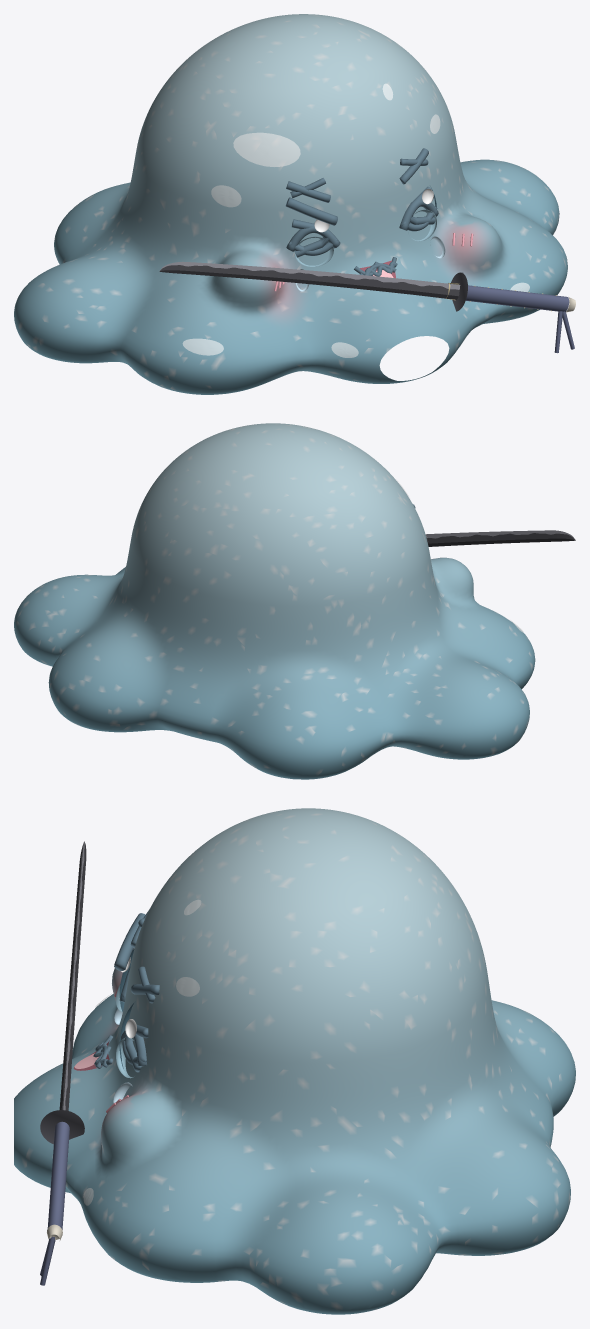
File: w_katana_black_slime.glb
3 renders of one model, top to bottom at view 1: azimuth 30°, elevation 25°; view 2: azimuth 150°, elevation 25°; view 3: azimuth 270°, elevation 25°, orthographic. The views are drawn at different scales.
Parts seen in each view (by area): view 1: BodyMesh, face_eyes_happy, face_eyes_normal, face_brows_angry, face_eyes_strain, face_brow_smug; view 2: BodyMesh; view 3: BodyMesh, face_eyes_normal.
Part boxes in pixels (x1,y1,x2,y2): BodyMesh: (14, 14, 575, 394); face_eyes_happy: (286, 199, 438, 251); face_eyes_normal: (294, 186, 436, 266); face_brows_angry: (286, 148, 428, 202); face_eyes_strain: (291, 186, 435, 257); face_brow_smug: (285, 197, 337, 225); BodyMesh: (14, 423, 575, 779); BodyMesh: (14, 808, 575, 1314); face_eyes_normal: (116, 948, 136, 1078).
Bounding box in the file's own units: 2.93 × 1.51 × 2.17.
